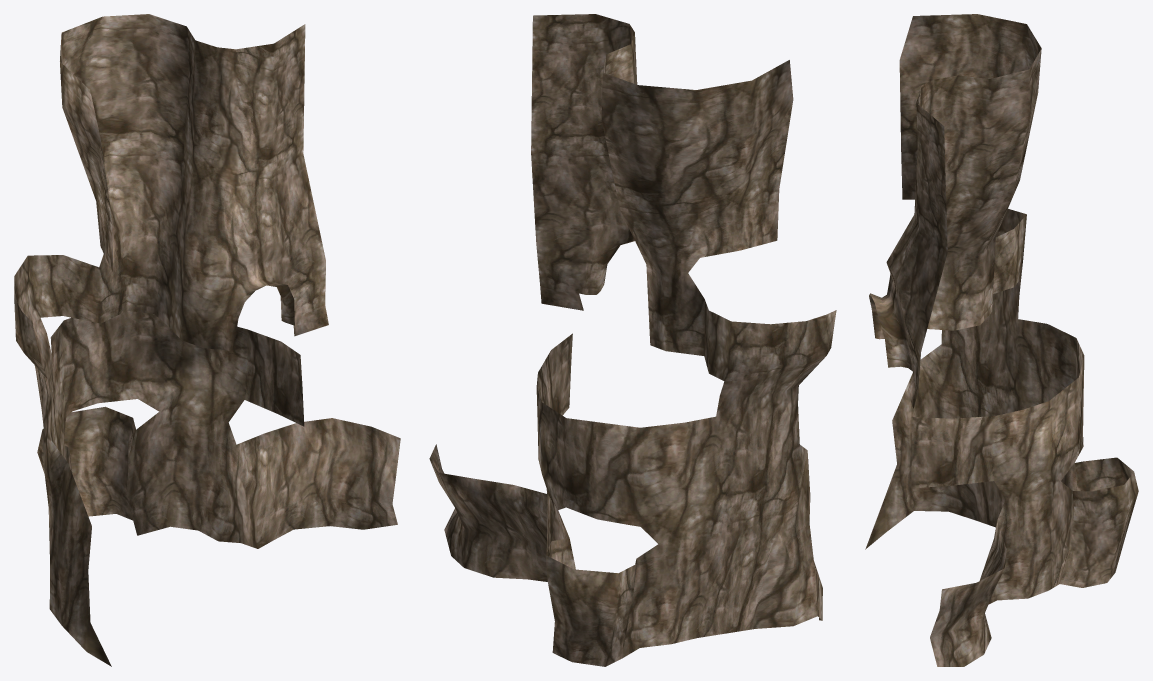
Rendered from EKH_GROTTO_PS_GR_BIG_WALL_02.fbx.
3 renders of one model, left to right at view 1: azimuth 30°, elevation 25°; view 2: azimuth 150°, elevation 25°; view 3: azimuth 270°, elevation 25°, orthographic. The views are drawn at different scales.
Visible parts, largest first — view 1: EKH_GROTTO_PS_GR_BIG_WALL_02; view 2: EKH_GROTTO_PS_GR_BIG_WALL_02; view 3: EKH_GROTTO_PS_GR_BIG_WALL_02.
Part boxes in pixels (box(x1,y1,x2,y2)): EKH_GROTTO_PS_GR_BIG_WALL_02: box(14, 14, 400, 666); EKH_GROTTO_PS_GR_BIG_WALL_02: box(429, 14, 836, 666); EKH_GROTTO_PS_GR_BIG_WALL_02: box(865, 14, 1138, 666).
Bounding box in the file's own units: 116952 × 167279 × 76569.
1 material, 1 textured.
